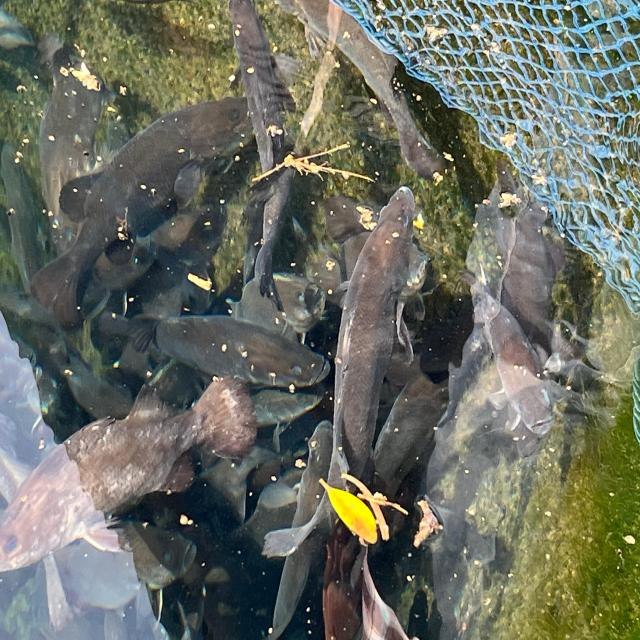ikan: (263, 184, 429, 637), (29, 92, 259, 326), (1, 370, 258, 575), (227, 0, 298, 312), (99, 310, 331, 391)
